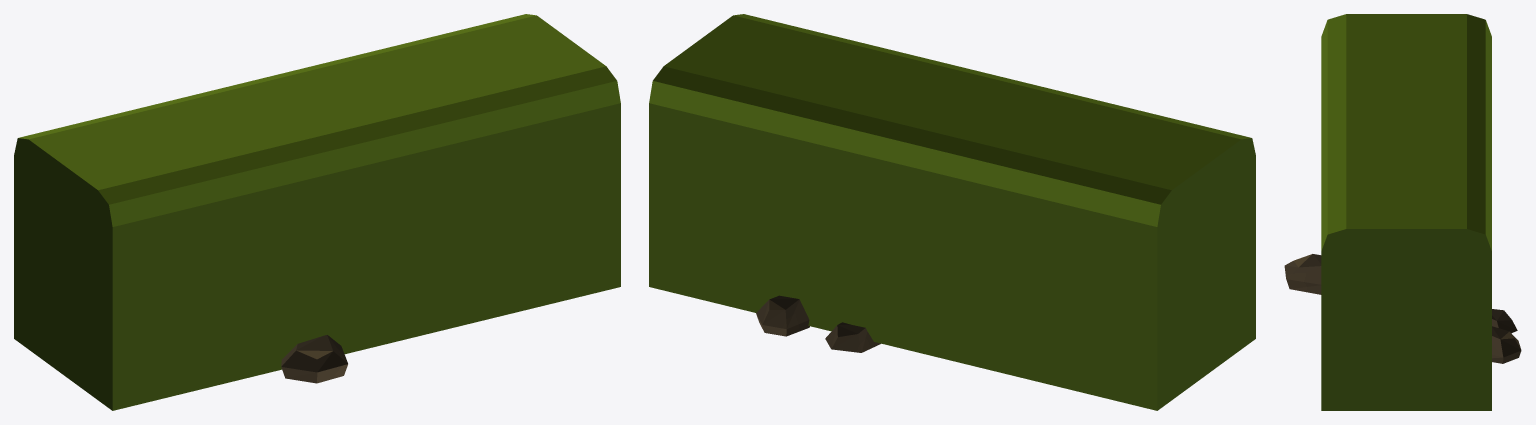
Rendered from city-decor09.fbx.
3 views of the same model, side by side, from view 1: azimuth 30°, elevation 25°; view 2: azimuth 150°, elevation 25°; view 3: azimuth 270°, elevation 25° (orthographic). The views are drawn at different scales.
Parts seen in each view (by area): view 1: city-decor09; view 2: city-decor09; view 3: city-decor09.
Boxes of the visible parts, box(x1,y1,x2,y2) form: city-decor09: box(14, 14, 620, 410); city-decor09: box(649, 14, 1255, 410); city-decor09: box(1284, 14, 1521, 410).
Bounding box in the file's own units: 1.01 × 0.4067 × 0.472.
1 material, 1 textured.
